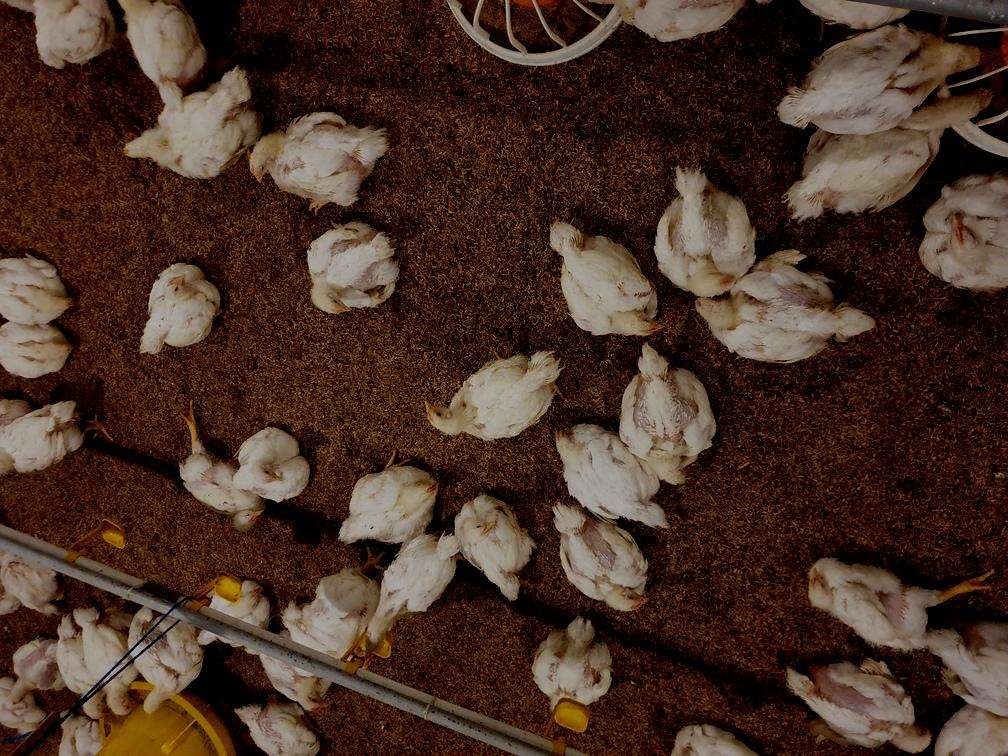Pollos: (700, 250, 880, 364), (785, 32, 962, 130), (245, 107, 392, 211), (790, 647, 932, 752), (127, 69, 265, 174), (622, 343, 719, 483), (426, 342, 563, 440), (551, 217, 660, 336), (658, 166, 757, 294), (300, 219, 406, 316), (937, 172, 1008, 304), (563, 509, 649, 611), (814, 556, 927, 631), (139, 258, 224, 357), (341, 462, 439, 544), (458, 495, 534, 594), (127, 605, 197, 710), (534, 620, 616, 708), (3, 400, 100, 471), (177, 451, 265, 521), (239, 419, 313, 497), (1, 253, 82, 319), (1, 317, 77, 378), (606, 476, 677, 531)
